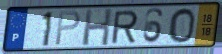1: (40, 10, 54, 48)
6: (142, 7, 165, 46)
H: (81, 7, 114, 48)
O: (167, 7, 196, 44)
P: (53, 9, 82, 47)
R: (109, 9, 140, 45)
